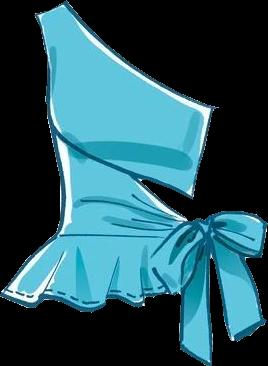Bodice: (0, 1, 218, 365)
Neckline: (65, 1, 214, 111), (49, 123, 148, 184), (55, 231, 208, 238)
Waistline: (0, 289, 213, 365)
